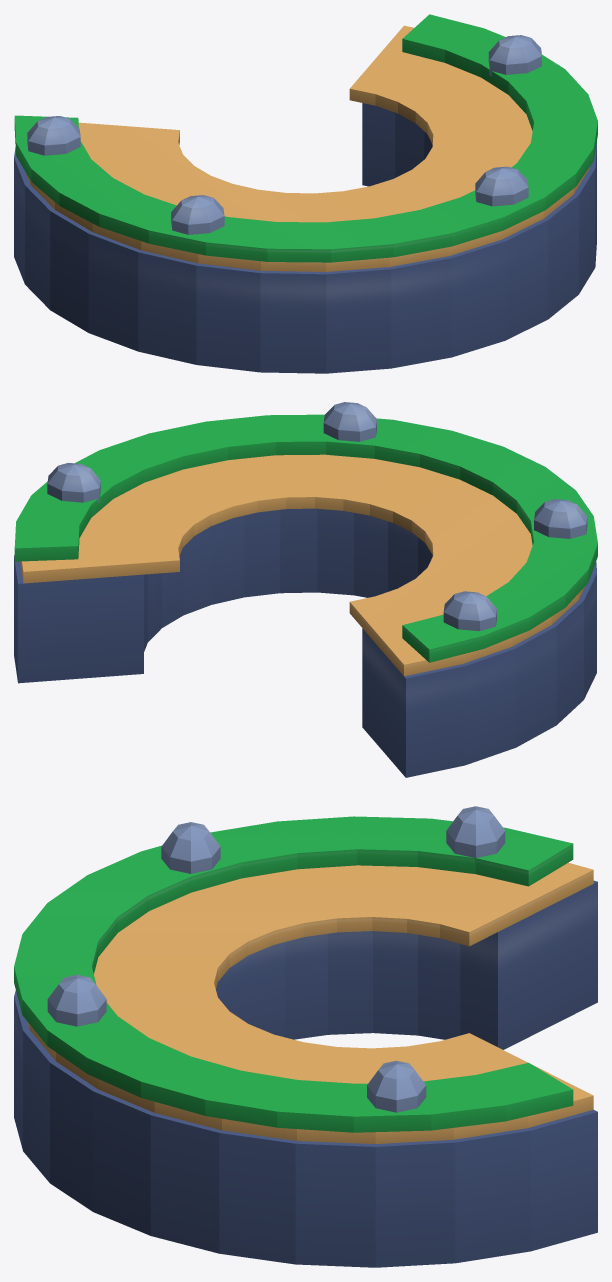
File: SmallCove.fbx
3 views of the same model, one above another, from view 1: azimuth 30°, elevation 25°; view 2: azimuth 150°, elevation 25°; view 3: azimuth 270°, elevation 25° (orthographic). The views are drawn at different scales.
Visible parts, largest first — view 1: SmallCove; view 2: SmallCove; view 3: SmallCove.
Boxes of the visible parts, x1,y1,x2,y2 form: SmallCove: [14, 14, 597, 373]; SmallCove: [14, 402, 597, 777]; SmallCove: [14, 806, 597, 1267].
Size of the model in its own units: 32 by 9.15 by 26.28.
Materials: 1 (1 with a texture image).
